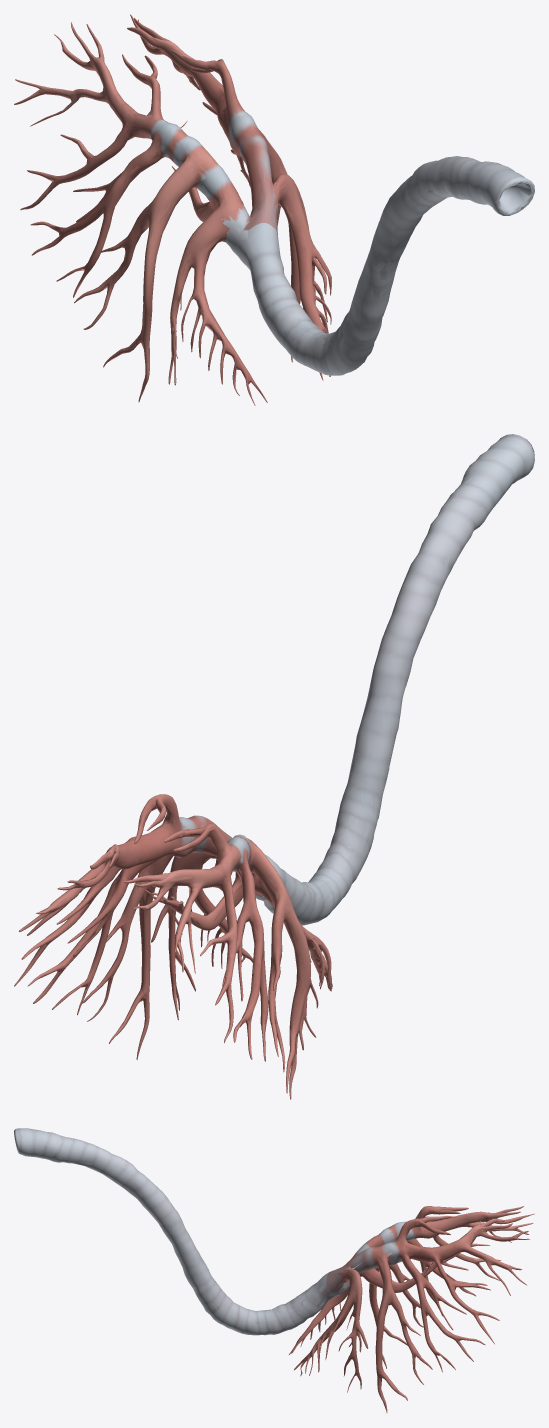
File: Trachea.fbx
3 views of the same model, one above another, from view 1: azimuth 30°, elevation 25°; view 2: azimuth 150°, elevation 25°; view 3: azimuth 270°, elevation 25° (orthographic). The views are drawn at different scales.
Parts seen in each view (by area): view 1: Trachea high, Trachea low, Trachea; view 2: Trachea high, Trachea, Trachea low; view 3: Trachea high, Trachea low, Trachea.
Part boxes in pixels (x1,y1,x2,y2): Trachea high: [14, 14, 534, 405]; Trachea low: [31, 19, 532, 395]; Trachea: [22, 19, 529, 402]; Trachea high: [14, 434, 534, 1099]; Trachea: [23, 439, 526, 1091]; Trachea low: [26, 446, 528, 1087]; Trachea high: [14, 1128, 534, 1412]; Trachea low: [32, 1130, 523, 1410]; Trachea: [21, 1132, 528, 1406].
Bounding box in the file's own units: 4.69 × 8.56 × 15.45.
Materials: 1 (1 with a texture image).
